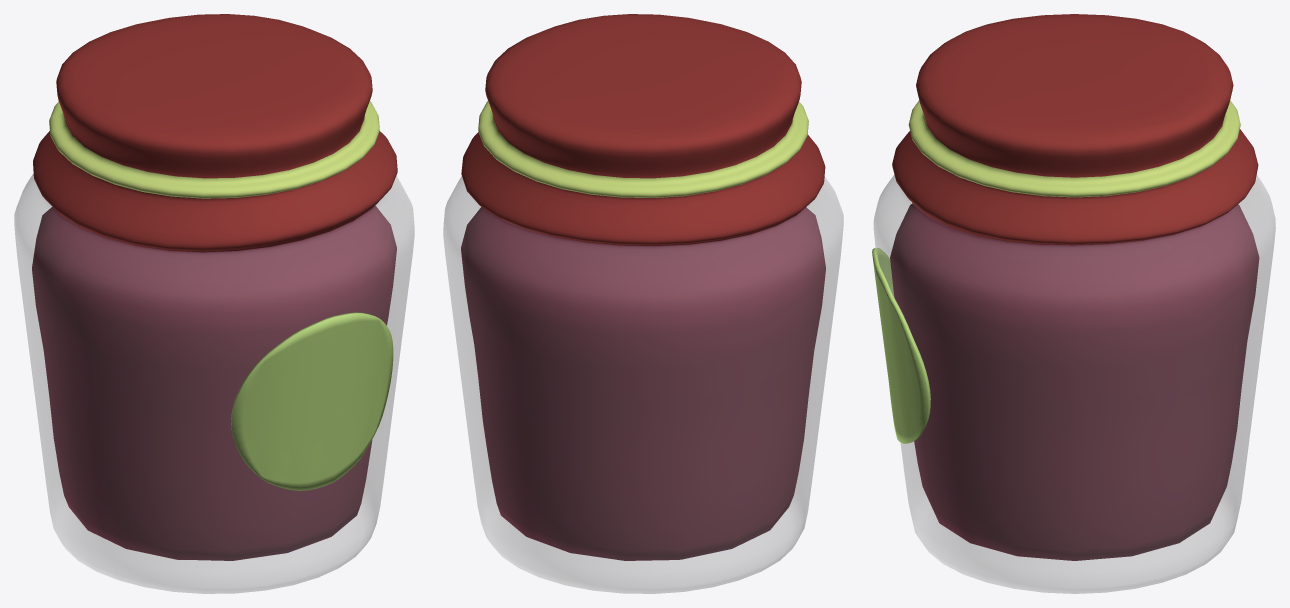
Rendered from Marmalade.fbx.
The picture shows the model from 3 angles, left to right: view 1: azimuth 30°, elevation 25°; view 2: azimuth 150°, elevation 25°; view 3: azimuth 270°, elevation 25°; orthographic projection.
Parts seen in each view (by area): view 1: Marmalade Jar, Marmalade, Lable; view 2: Marmalade Jar, Marmalade; view 3: Marmalade Jar, Marmalade, Lable.
Boxes of the visible parts, <box> form: Marmalade Jar: <box>14,14,414,593</box>; Marmalade: <box>32,205,396,560</box>; Lable: <box>231,312,393,490</box>; Marmalade Jar: <box>443,14,843,593</box>; Marmalade: <box>461,207,825,560</box>; Marmalade Jar: <box>873,14,1275,593</box>; Marmalade: <box>890,203,1259,560</box>; Lable: <box>872,248,930,443</box>.
Bounding box in the file's own units: 66.34 × 83.93 × 66.58.
